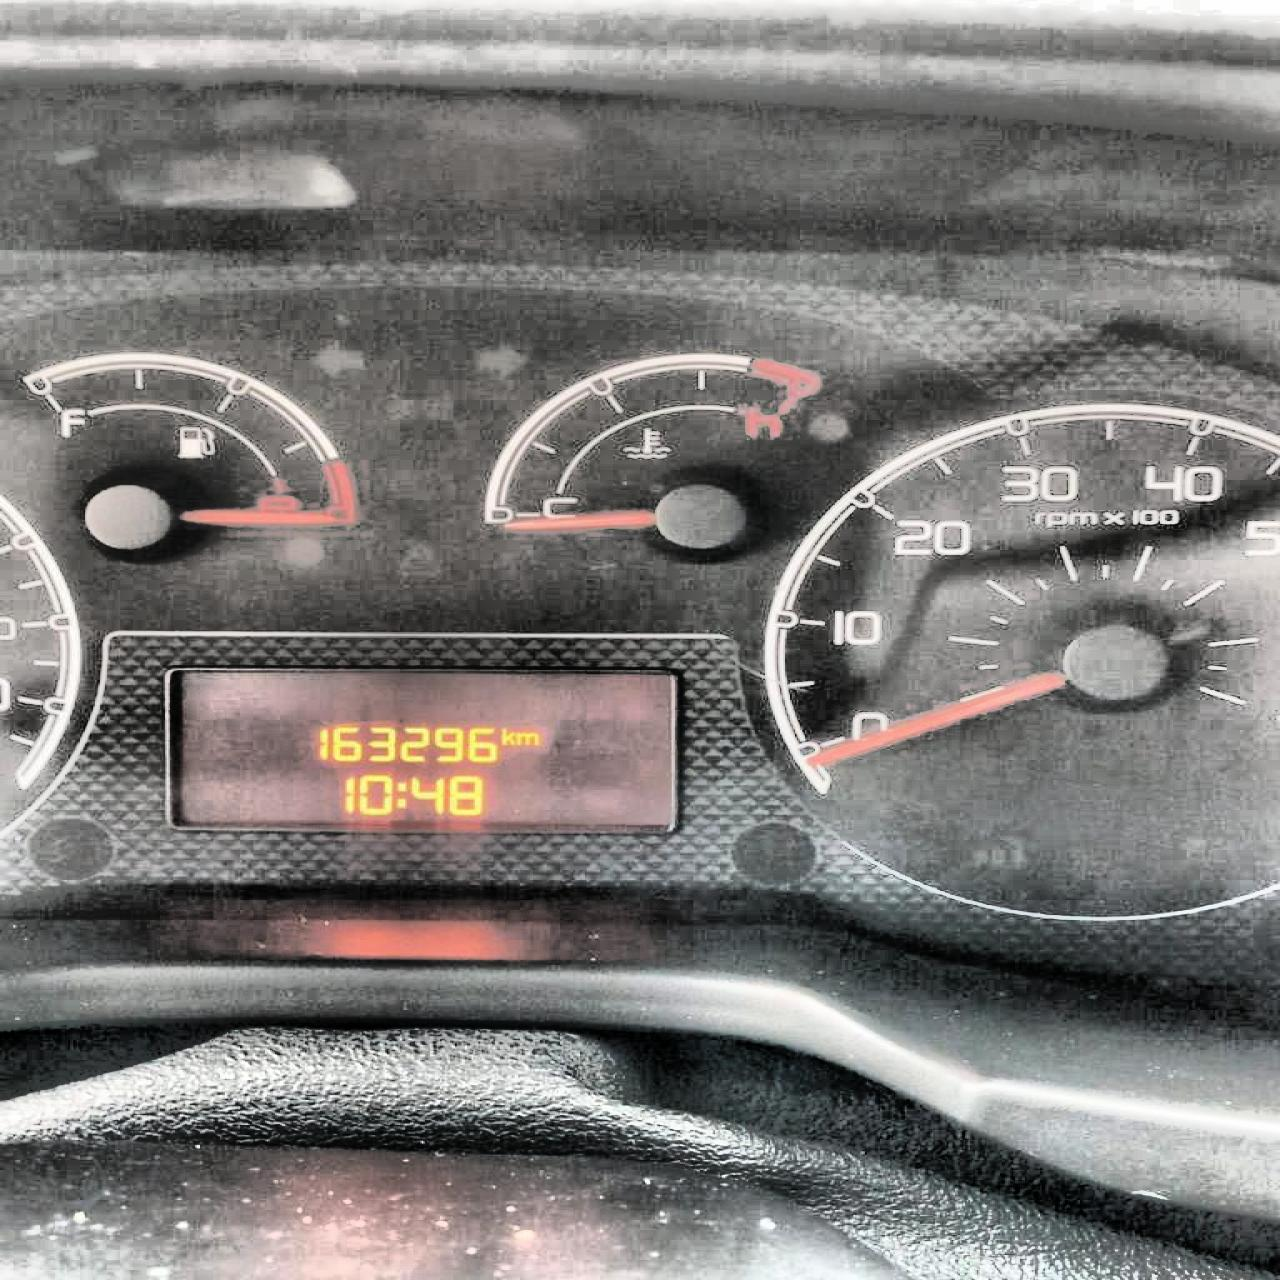0: (355, 772, 392, 816)
1: (340, 772, 355, 813), (313, 726, 327, 760)
2: (399, 726, 430, 764)
3: (366, 723, 396, 763)
4: (407, 774, 445, 815)
6: (329, 722, 363, 762), (464, 723, 498, 763)
8: (447, 772, 483, 817)
9: (430, 726, 463, 761)
X: (393, 779, 407, 810), (515, 730, 540, 745), (498, 723, 515, 747)
odometer: (163, 663, 680, 835)
